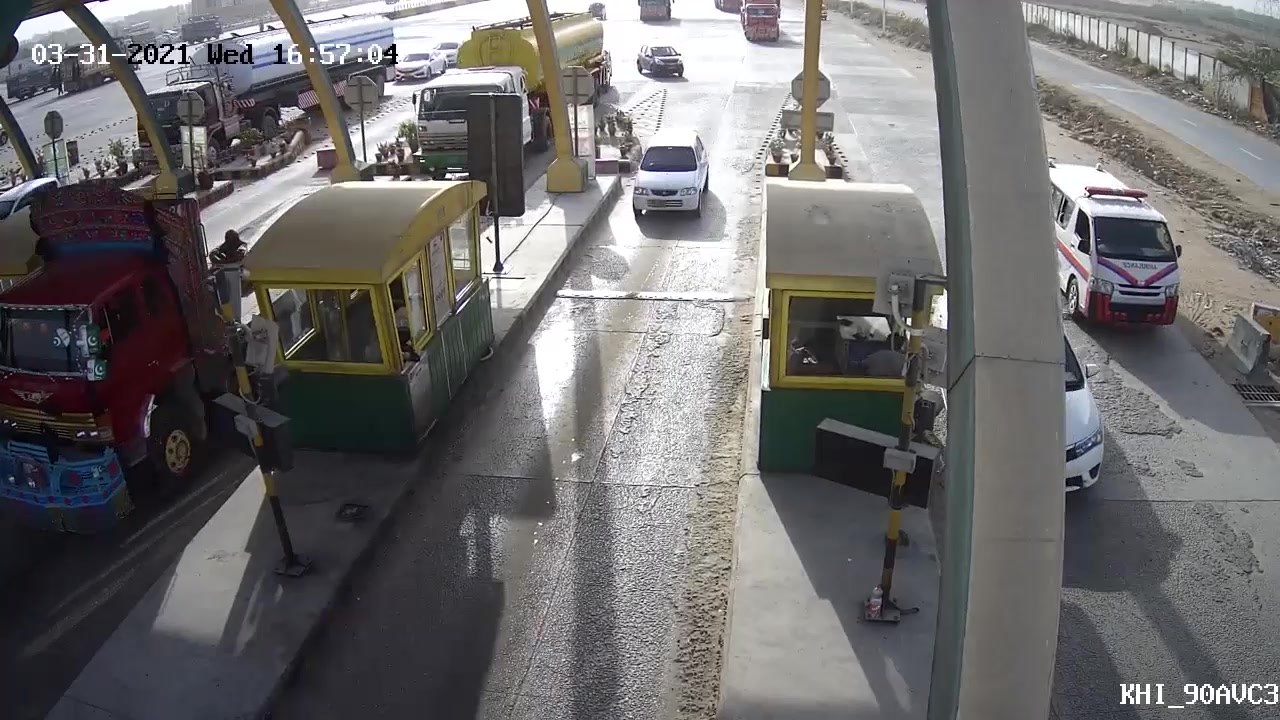F1: (621, 130, 718, 218)
